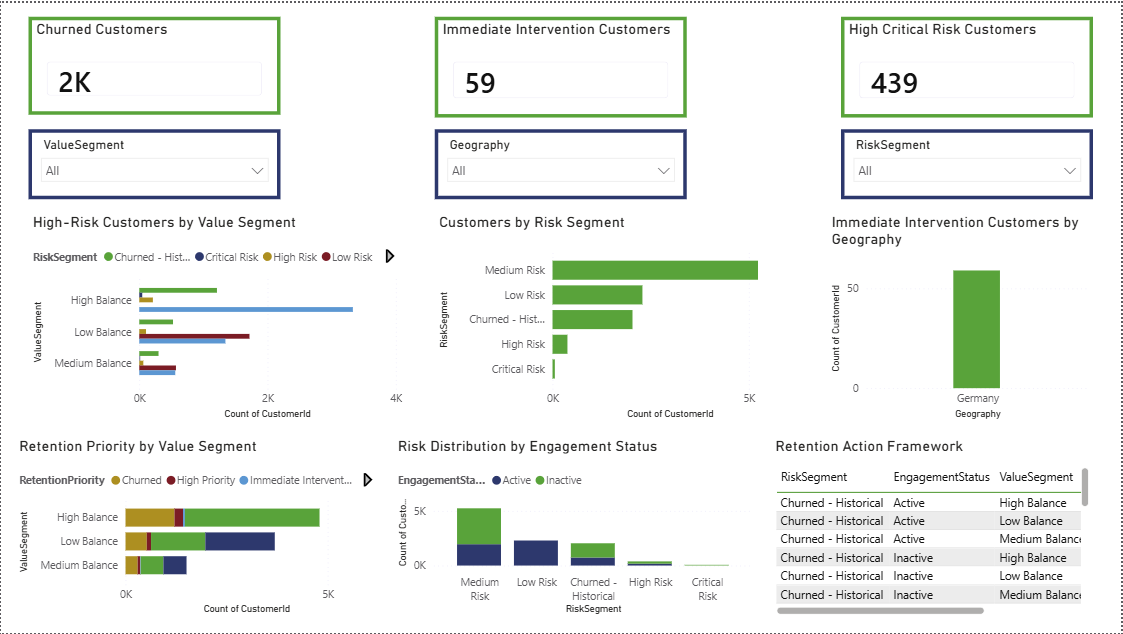

The dashboard page shown, as its layout file describes it:
{"tool":"powerbi","page":{"name":"Executive Recommendations","canvas":[1280,720],"ordinal":4},"visuals":[{"type":"slicer","fields":{"Values":["customer_churn_cleaned.RiskSegment"]},"box":[960,144,288,80],"z":0},{"type":"slicer","fields":{"Values":["customer_churn_cleaned.Geography"]},"box":[496,144,288,80],"z":1000},{"type":"slicer","fields":{"Values":["customer_churn_cleaned.ValueSegment"]},"box":[32,144,288,80],"z":2000},{"type":"cardVisual","title":"High Critical Risk Customers","fields":{"Data":["customer_churn_cleaned.High Critical Risk Customers"]},"box":[960,16,288,115],"z":3000},{"type":"cardVisual","title":"Immediate Intervention Customers","fields":{"Data":["CountNonNull(customer_churn_cleaned.CustomerId)"]},"box":[496,16,288,115],"z":4000},{"type":"cardVisual","title":"Churned Customers","fields":{"Data":["customer_churn_cleaned.Churned Customers"]},"box":[32,16,288,112],"z":5000},{"type":"clusteredBarChart","title":"High-Risk Customers by Value Segment","fields":{"Category":["customer_churn_cleaned.ValueSegment"],"Y":["CountNonNull(customer_churn_cleaned.CustomerId)"],"Series":["customer_churn_cleaned.RiskSegment"]},"box":[32,240,432,240],"z":6000},{"type":"clusteredBarChart","title":"Customers by Risk Segment","fields":{"Category":["customer_churn_cleaned.RiskSegment"],"Y":["CountNonNull(customer_churn_cleaned.CustomerId)"]},"box":[496,240,416,240],"z":7000},{"type":"clusteredColumnChart","title":"Immediate Intervention Customers by Geography","fields":{"Category":["customer_churn_cleaned.Geography"],"Y":["CountNonNull(customer_churn_cleaned.CustomerId)"]},"box":[944,240,304,240],"z":8000},{"type":"barChart","title":"Retention Priority by Value Segment","fields":{"Category":["customer_churn_cleaned.ValueSegment"],"Y":["CountNonNull(customer_churn_cleaned.CustomerId)"],"Series":["customer_churn_cleaned.RetentionPriority"]},"box":[16,496,416,208],"z":9000},{"type":"columnChart","title":"Risk Distribution by Engagement Status","fields":{"Category":["customer_churn_cleaned.RiskSegment"],"Y":["CountNonNull(customer_churn_cleaned.CustomerId)"],"Series":["customer_churn_cleaned.EngagementStatus"]},"box":[448,496,416,208],"z":10000},{"type":"tableEx","title":"Retention Action Framework","fields":{"Values":["customer_churn_cleaned.RiskSegment","customer_churn_cleaned.EngagementStatus","customer_churn_cleaned.ValueSegment","customer_churn_cleaned.RetentionPriority"]},"box":[880,496,368,208],"z":11000}]}

Visuals, with their boxes in screenshot pixels (x1, y1, x2, y2), scaled from the page's 1280x720 canvas onto the 1123x634 screenshot:
slicer - customer_churn_cleaned.RiskSegment: 842 127 1095 197
slicer - customer_churn_cleaned.Geography: 435 127 688 197
slicer - customer_churn_cleaned.ValueSegment: 28 127 281 197
"High Critical Risk Customers" cardVisual: 842 14 1095 115
"Immediate Intervention Customers" cardVisual: 435 14 688 115
"Churned Customers" cardVisual: 28 14 281 113
"High-Risk Customers by Value Segment" clusteredBarChart: 28 211 407 423
"Customers by Risk Segment" clusteredBarChart: 435 211 800 423
"Immediate Intervention Customers by Geography" clusteredColumnChart: 828 211 1095 423
"Retention Priority by Value Segment" barChart: 14 437 379 620
"Risk Distribution by Engagement Status" columnChart: 393 437 758 620
"Retention Action Framework" tableEx: 772 437 1095 620
